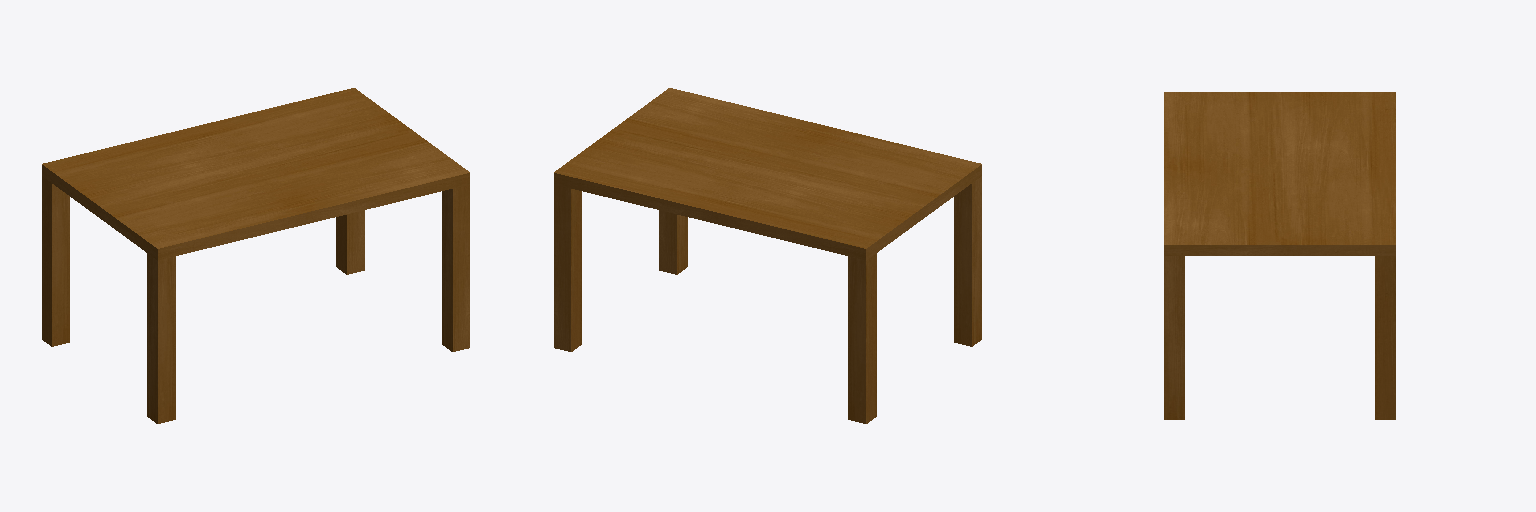
3 renders of one model, left to right at view 1: azimuth 30°, elevation 25°; view 2: azimuth 150°, elevation 25°; view 3: azimuth 270°, elevation 25°, orthographic.
Visible parts, largest first — view 1: fusta_taula_tipical.j_fusta_taula_tipical.j_fusta_taula_tipical.; view 2: fusta_taula_tipical.j_fusta_taula_tipical.j_fusta_taula_tipical.; view 3: fusta_taula_tipical.j_fusta_taula_tipical.j_fusta_taula_tipical..
Part boxes in pixels (x1,y1,x2,y2): fusta_taula_tipical.j_fusta_taula_tipical.j_fusta_taula_tipical.: (42, 88, 469, 423); fusta_taula_tipical.j_fusta_taula_tipical.j_fusta_taula_tipical.: (554, 88, 981, 423); fusta_taula_tipical.j_fusta_taula_tipical.j_fusta_taula_tipical.: (1164, 92, 1395, 419).
Size of the model in its own units: 1 by 0.5357 by 0.6429.
Materials: 1 (1 with a texture image).